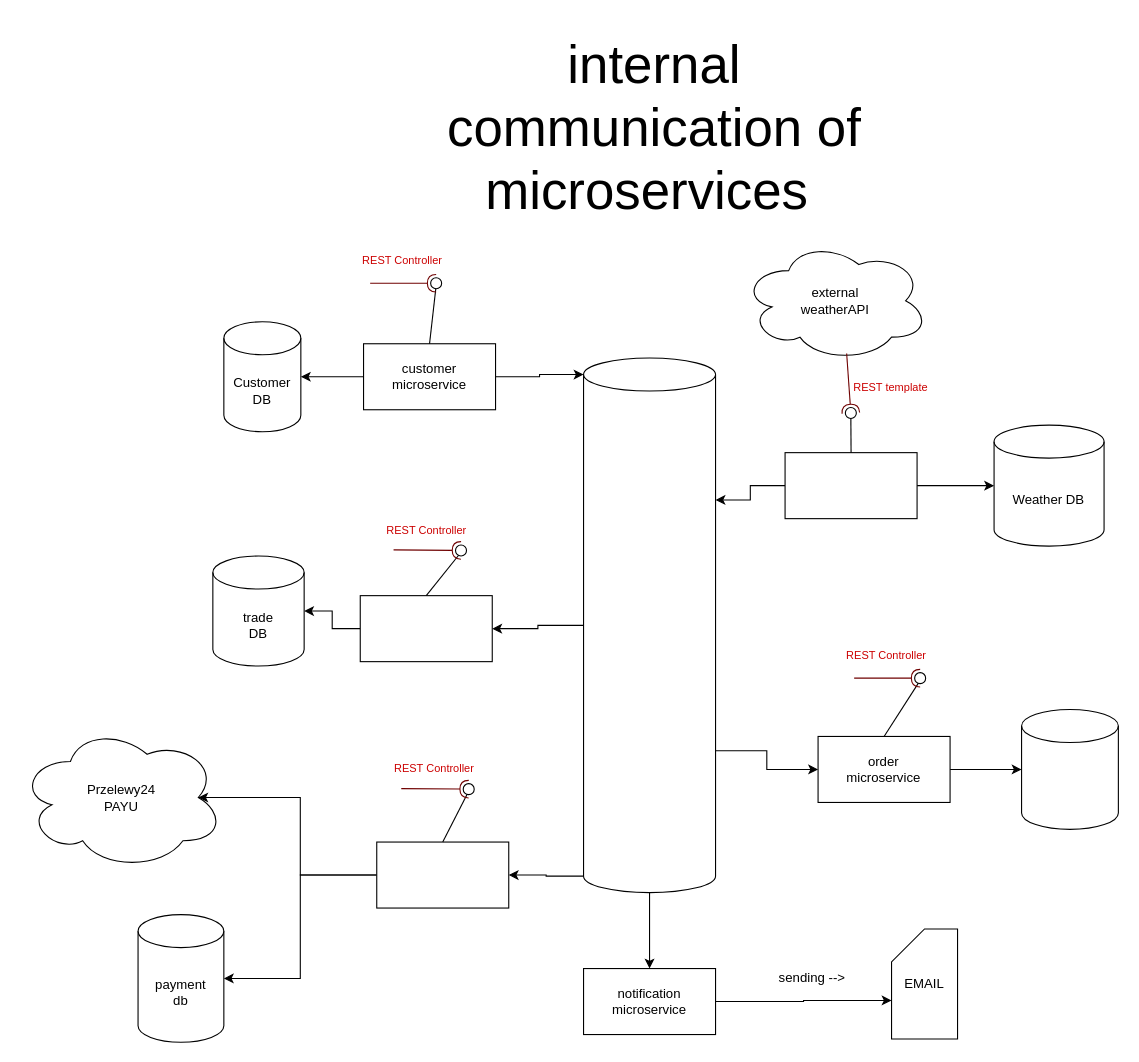
The diagram is 1139 pixels wide and 1062 high, and some of its shapes have lost their labels. Here are the shapes that lost their labels. From the top down, the centre of each, then its label:
the point at 850,485: weather microservice
the point at 425,628: trade microservice
the point at 649,625: Message Broker (Apache Kafka, RabbitMQ
the point at 1069,768: order DB
the point at 442,874: payment microservice
